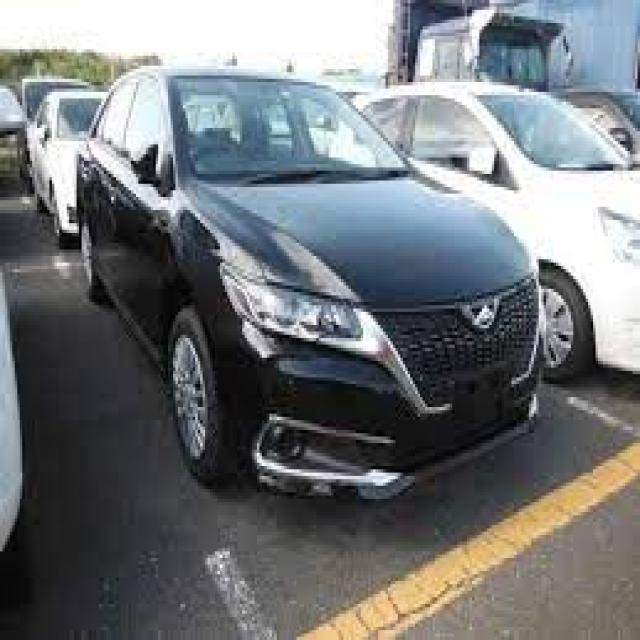black: (76, 67, 543, 491)
white: (352, 83, 638, 388), (26, 91, 128, 248)
